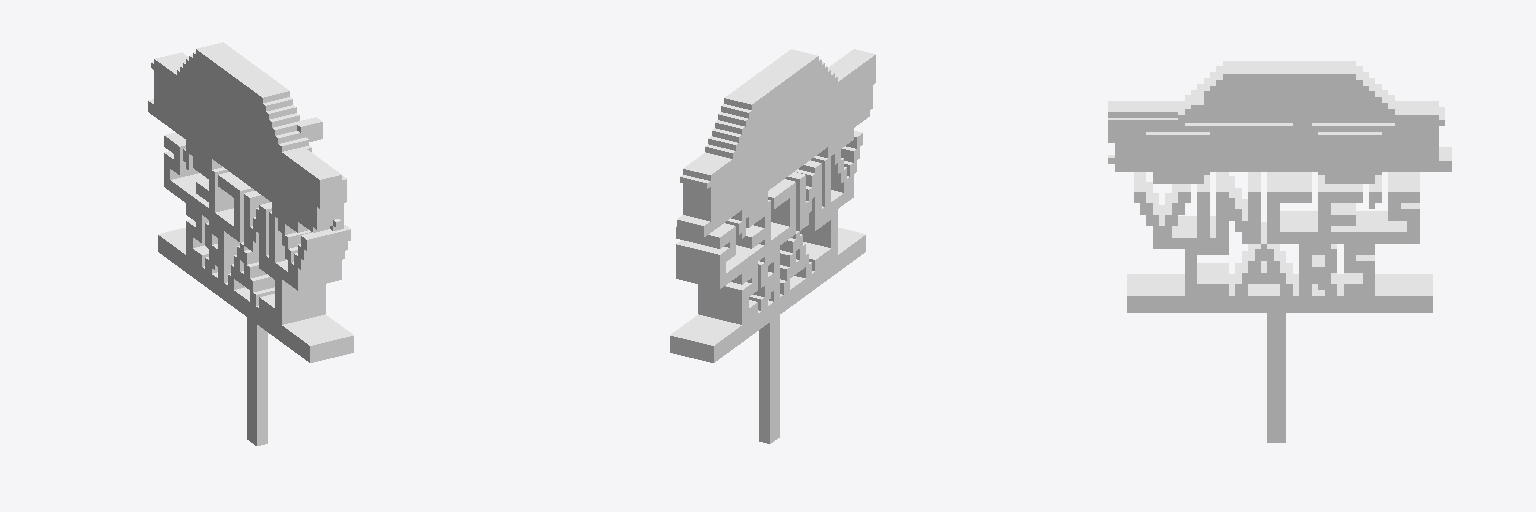
The model's file is misc:sign.obj.
3 renders of one model, left to right at view 1: azimuth 30°, elevation 25°; view 2: azimuth 150°, elevation 25°; view 3: azimuth 270°, elevation 25°, orthographic.
Visible parts, largest first — view 1: misc:sign; view 2: misc:sign; view 3: misc:sign.
Boxes of the visible parts, box(x1,y1,x2,y2) form: misc:sign: box(148, 42, 353, 445); misc:sign: box(670, 49, 875, 443); misc:sign: box(1108, 61, 1451, 442).
Size of the model in its own units: 8 by 64 by 54.